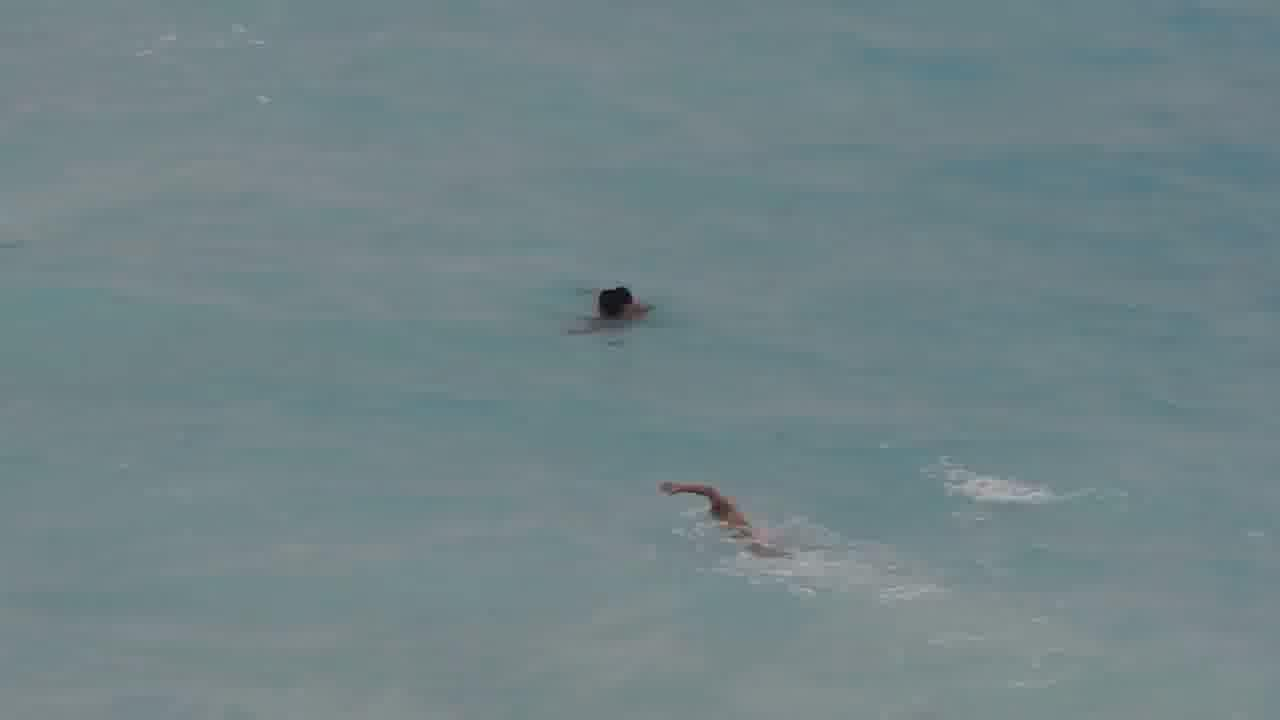human: (678, 473, 759, 543), (588, 270, 655, 337)
